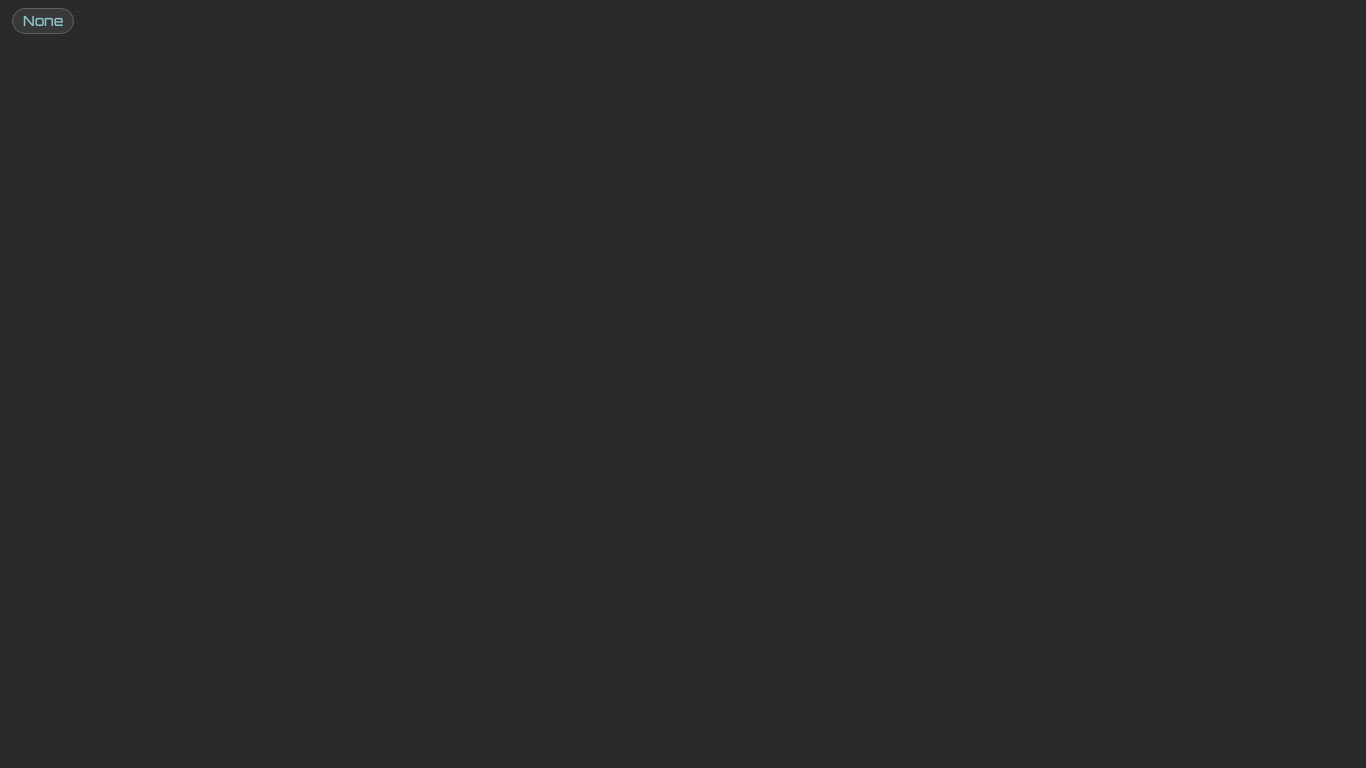
Scenario: ChoreEntryRow – display › renders landmark name in the edit dialog title
The width and height of the screenshot is (1366, 768).
Click the button titled "Edit entry": click(43, 21) [12,8,74,34]
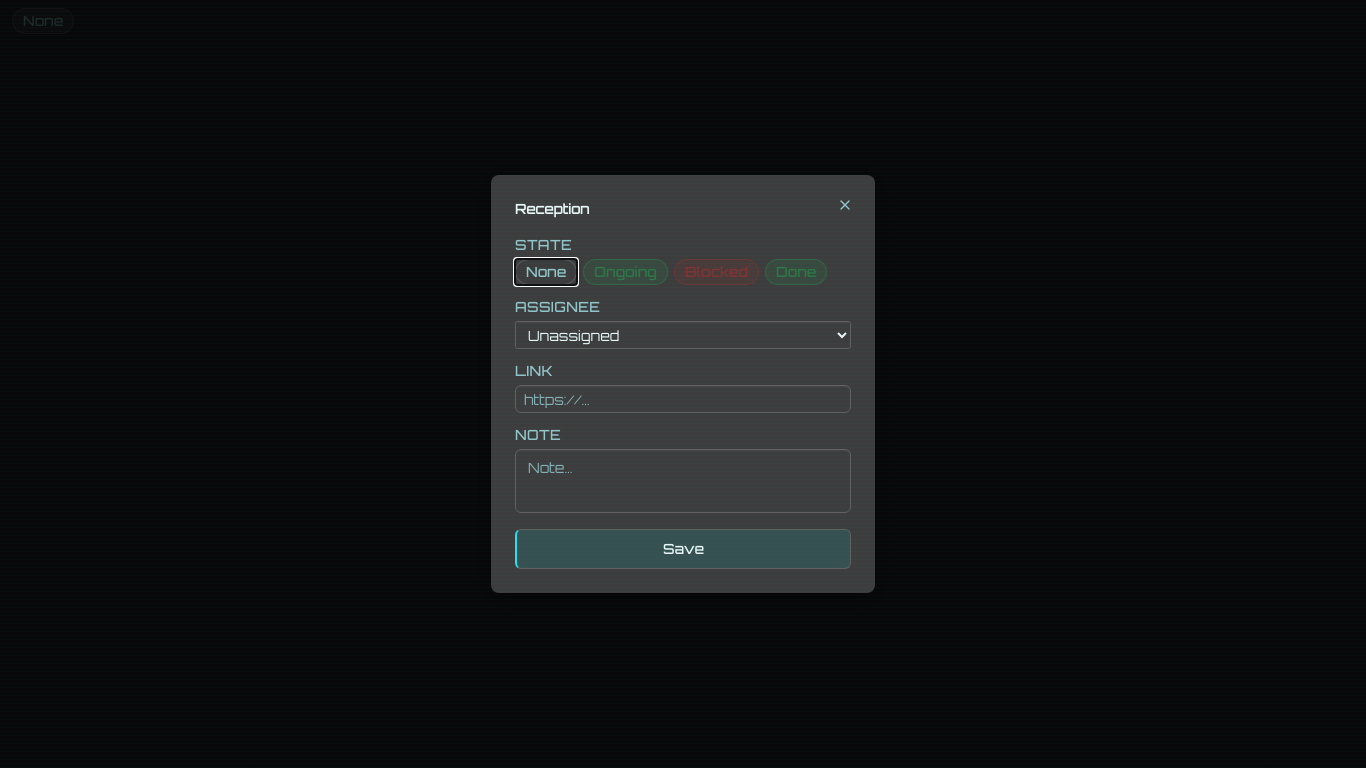
Expected: the heading "Reception" is shown, [515,200,589,217]
